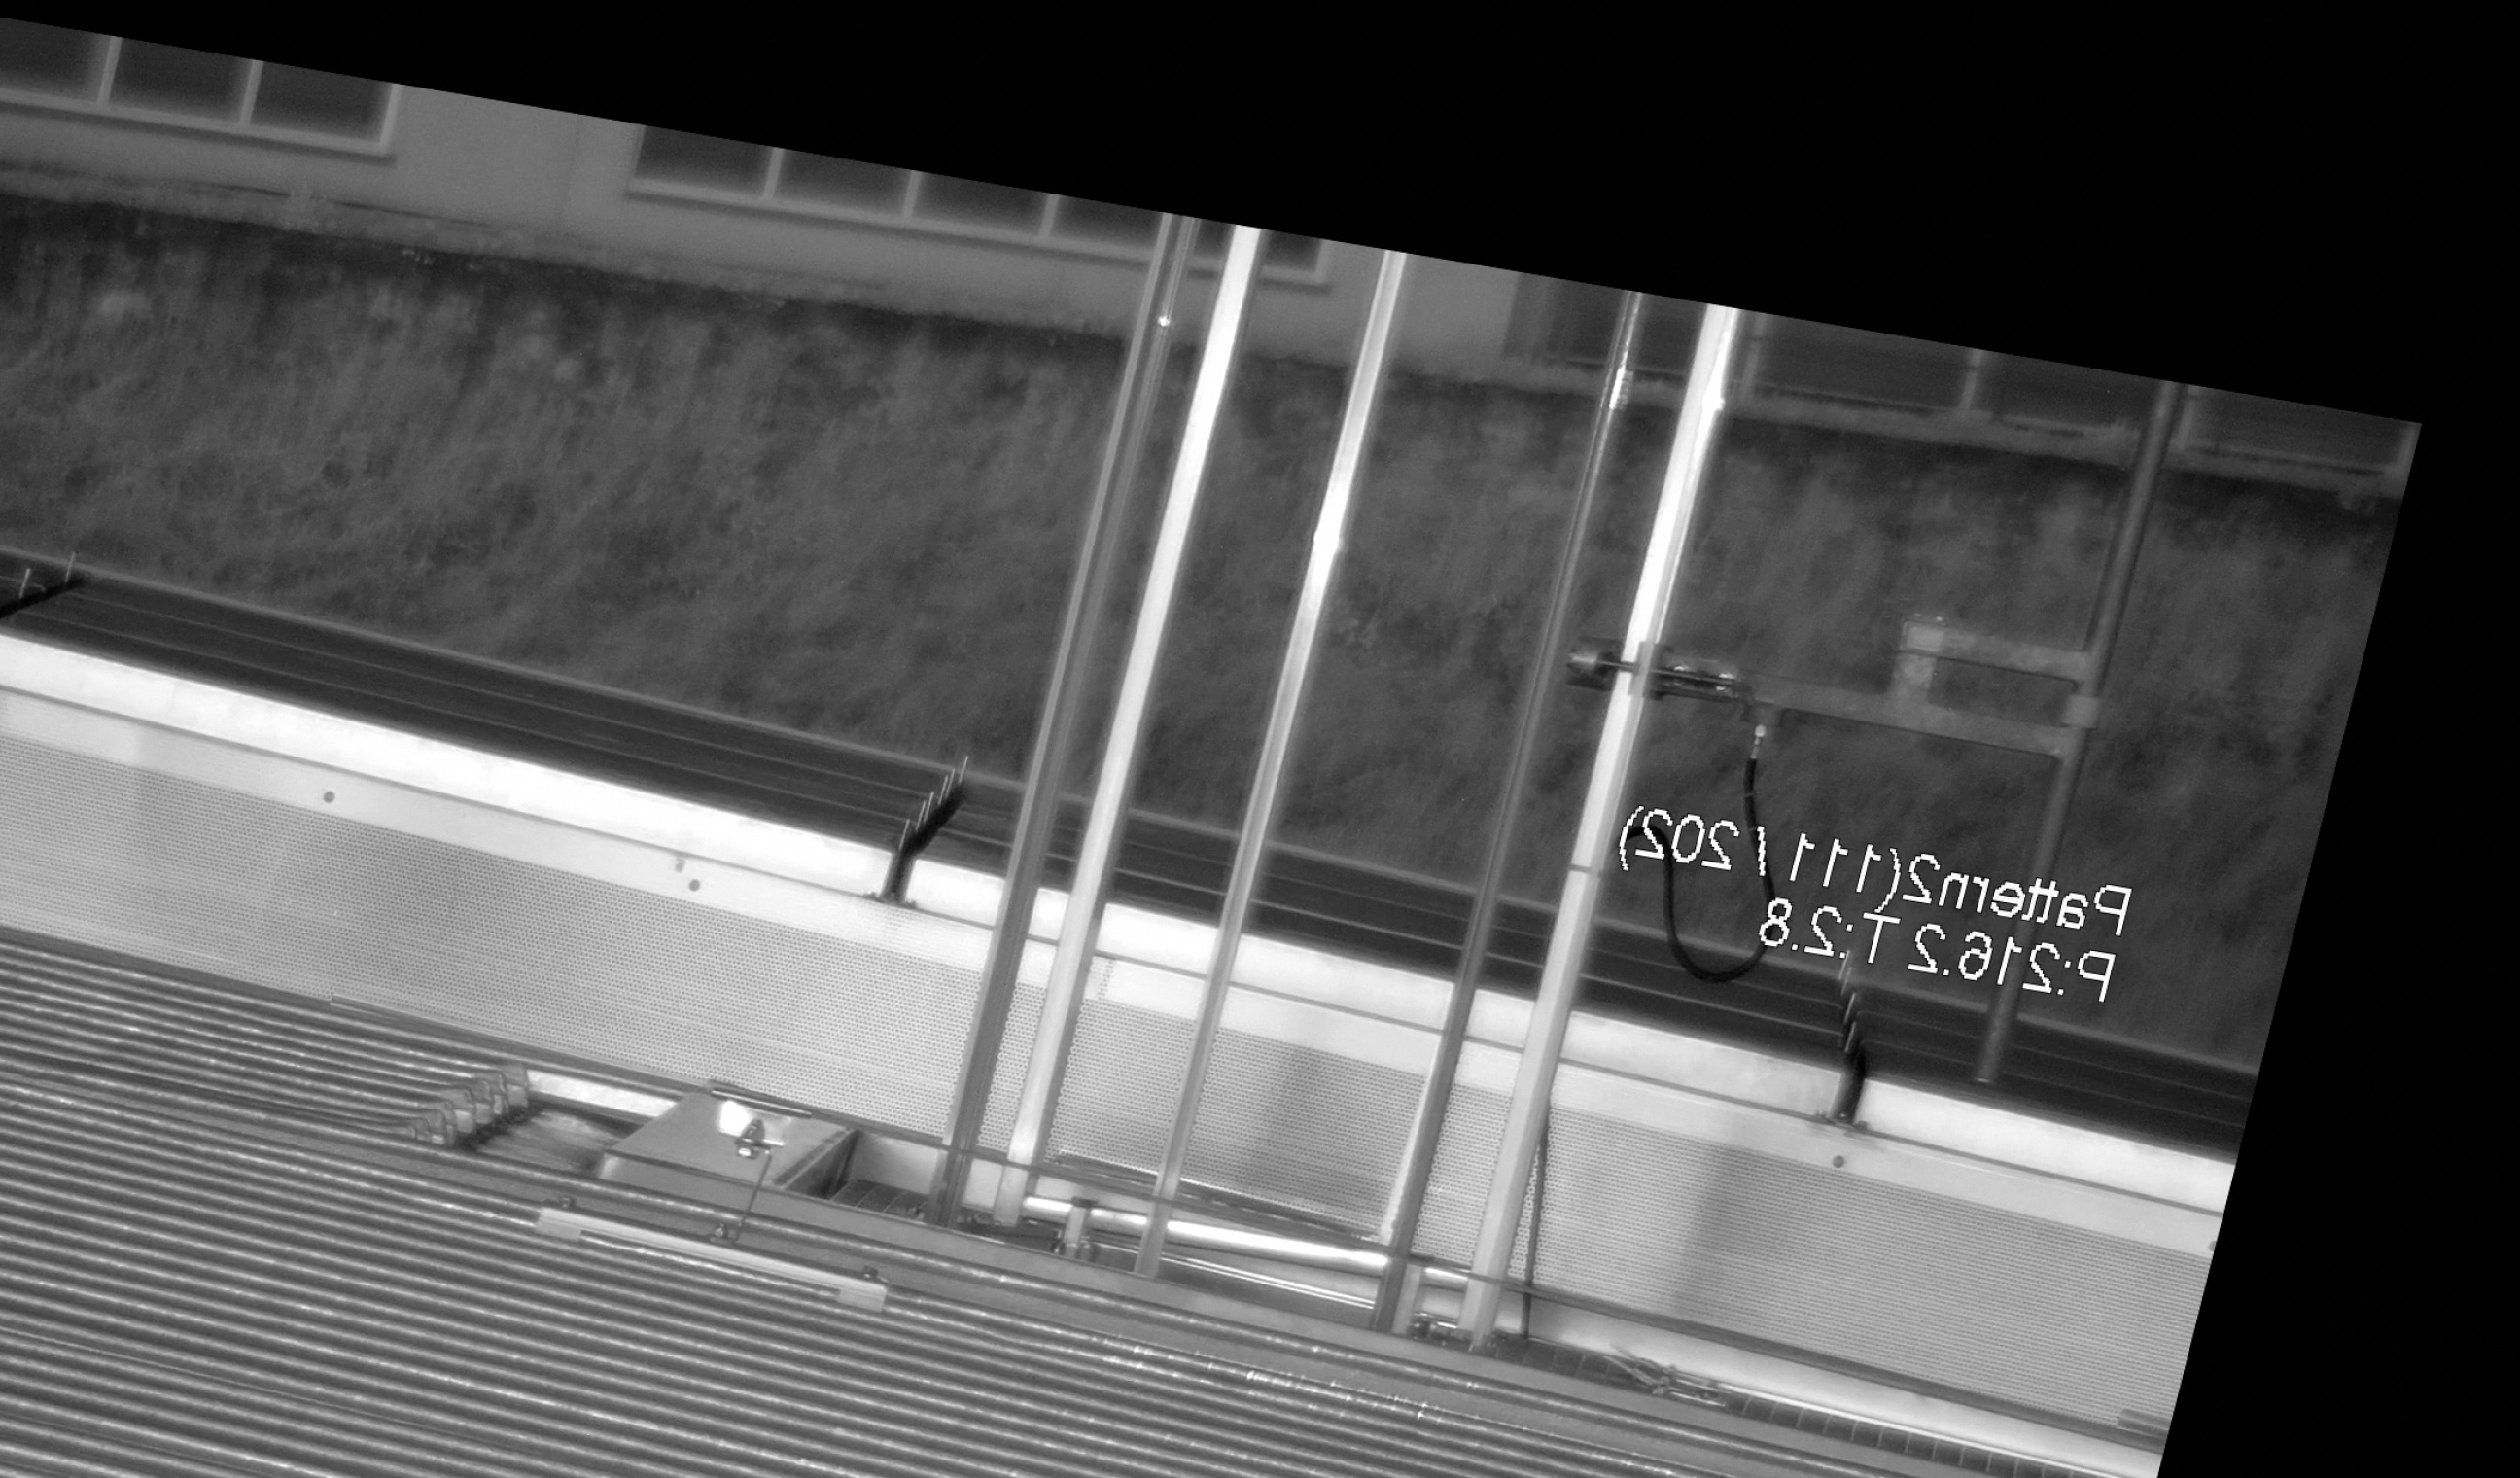Other: (858, 728, 995, 918)
